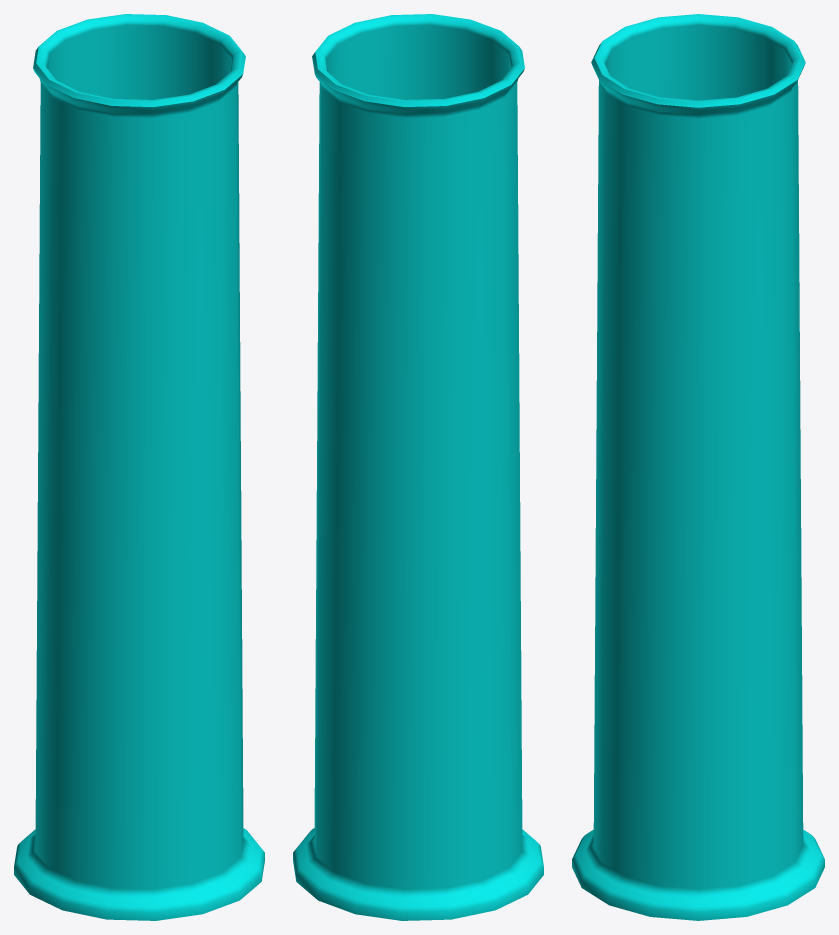
The model's file is SM_Flask3.fbx.
The picture shows the model from 3 angles, left to right: view 1: azimuth 30°, elevation 25°; view 2: azimuth 150°, elevation 25°; view 3: azimuth 270°, elevation 25°; orthographic projection.
Parts seen in each view (by area): view 1: Flask3; view 2: Flask3; view 3: Flask3.
Boxes of the visible parts, x1,y1,x2,y2 form: Flask3: (14,14,264,920); Flask3: (293,14,543,920); Flask3: (572,14,824,920).
Size of what is drawn, in the model's own units: 7.5 by 26.5 by 7.5.
